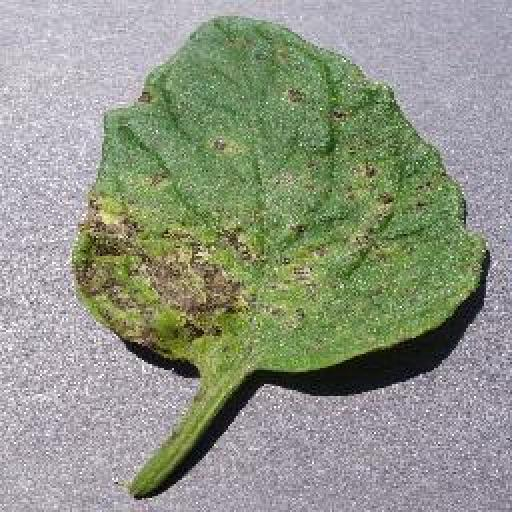Septoria: (73, 14, 492, 374)
